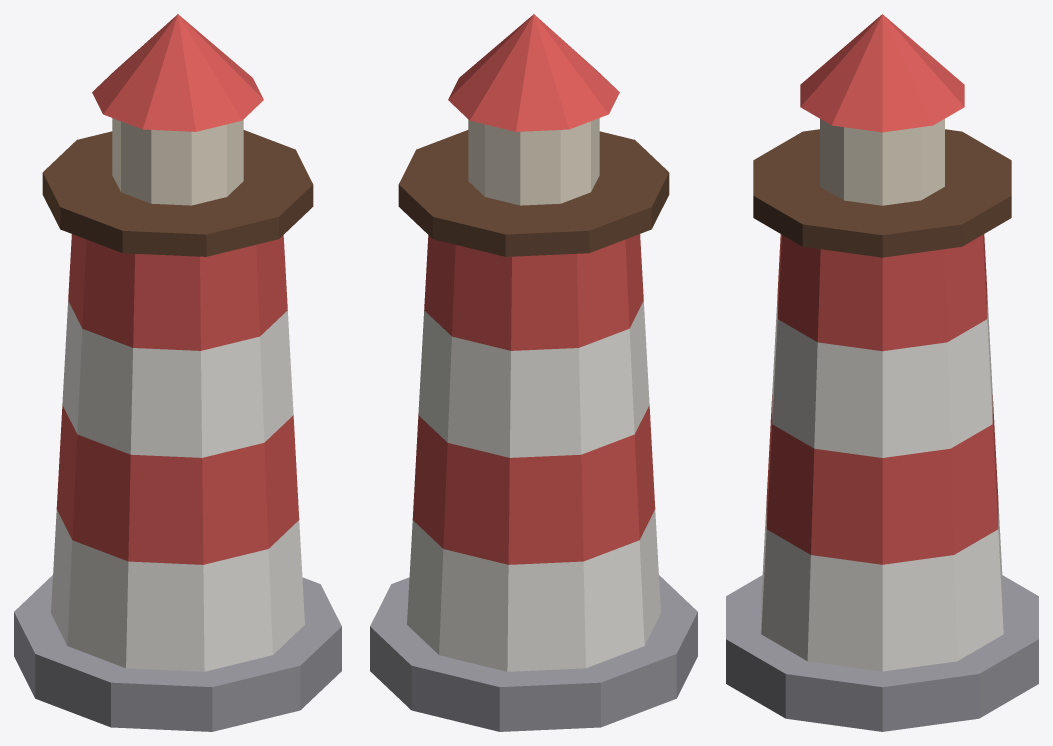
Rendered from deco_lighthouse.obj.
The picture shows the model from 3 angles, left to right: view 1: azimuth 30°, elevation 25°; view 2: azimuth 150°, elevation 25°; view 3: azimuth 270°, elevation 25°; orthographic projection.
Visible parts, largest first — view 1: deco_lighthouse; view 2: deco_lighthouse; view 3: deco_lighthouse.
Boxes of the visible parts, x1,y1,x2,y2 form: deco_lighthouse: [14, 14, 341, 731]; deco_lighthouse: [370, 14, 697, 731]; deco_lighthouse: [726, 14, 1038, 731].
Size of the model in its own units: 0.04 by 0.087 by 0.038.
1 material, 1 textured.
